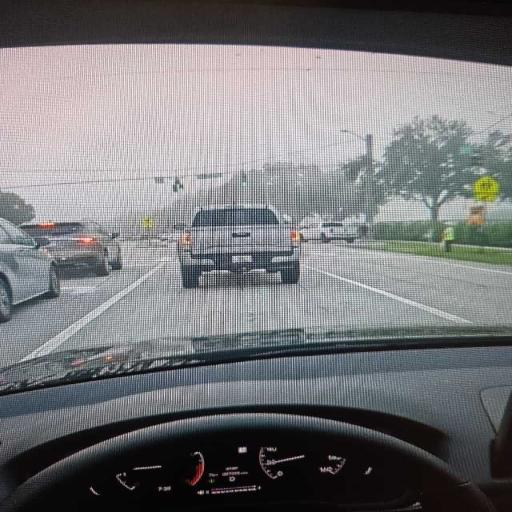car: (0, 0, 511, 217), (178, 205, 300, 288), (0, 220, 59, 322), (20, 221, 122, 276), (300, 221, 362, 243)
lane: (60, 260, 447, 348), (0, 243, 169, 365), (305, 244, 511, 325)
person: (442, 223, 455, 252)
